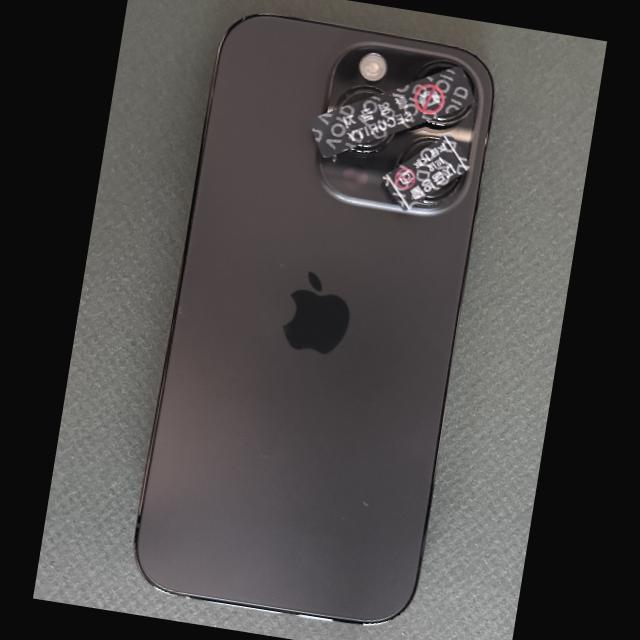lens: (413, 61, 475, 97), (398, 136, 439, 166), (334, 86, 382, 110)
phone: (133, 13, 495, 625)
sticker: (311, 67, 475, 158), (382, 134, 470, 211)
